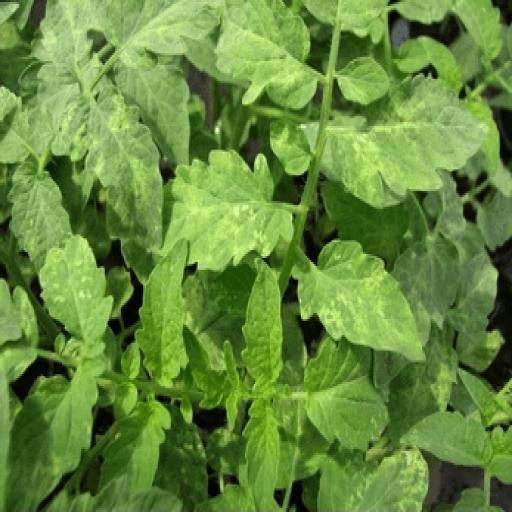Healthy: (131, 236, 193, 388)
Mosaic Virus: (328, 72, 492, 210), (292, 238, 428, 364), (66, 82, 162, 258), (164, 146, 294, 274), (0, 356, 100, 512), (40, 232, 114, 358), (312, 439, 430, 512)
